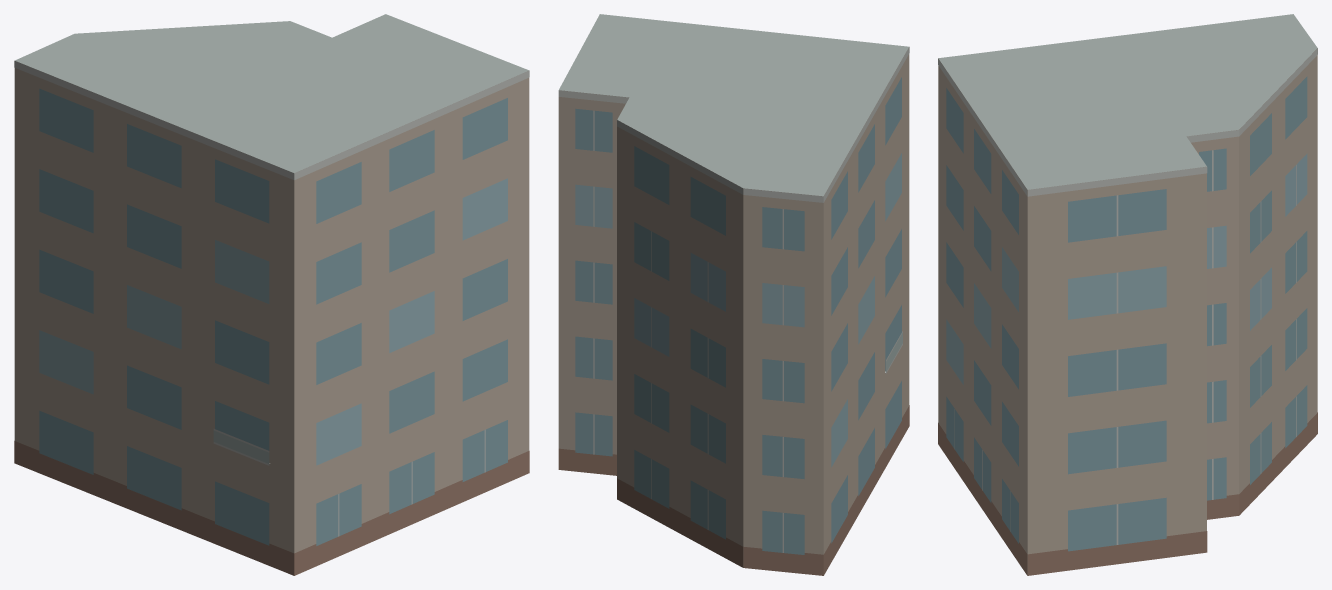
The model's file is survey-upis-32526784.glb.
3 views of the same model, side by side, from view 1: azimuth 30°, elevation 25°; view 2: azimuth 150°, elevation 25°; view 3: azimuth 270°, elevation 25° (orthographic). The views are drawn at different scales.
Visible parts, largest first — view 1: survey-upis-32526784.tmp; view 2: survey-upis-32526784.tmp; view 3: survey-upis-32526784.tmp.
Part boxes in pixels (x1=…): survey-upis-32526784.tmp: x1=14, y1=14, x2=529, y2=575; survey-upis-32526784.tmp: x1=558, y1=14, x2=909, y2=575; survey-upis-32526784.tmp: x1=938, y1=14, x2=1317, y2=575.
Bounding box in the file's own units: 13.6 × 13.9 × 12.4.
